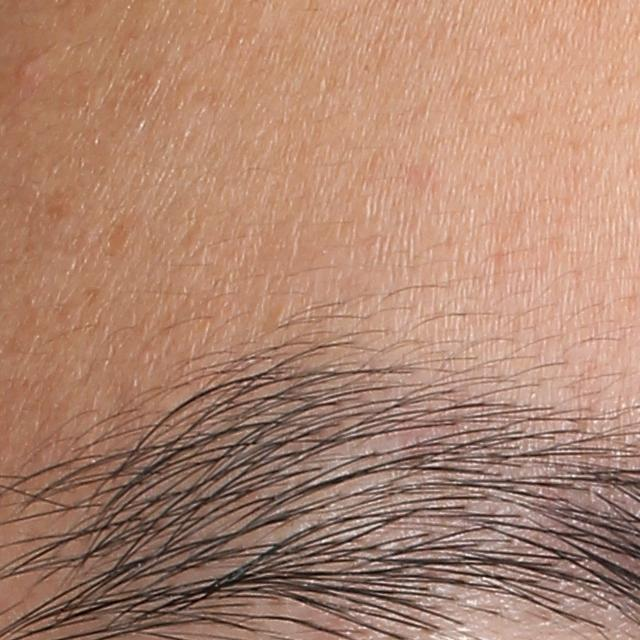papule: (16, 60, 35, 80)
